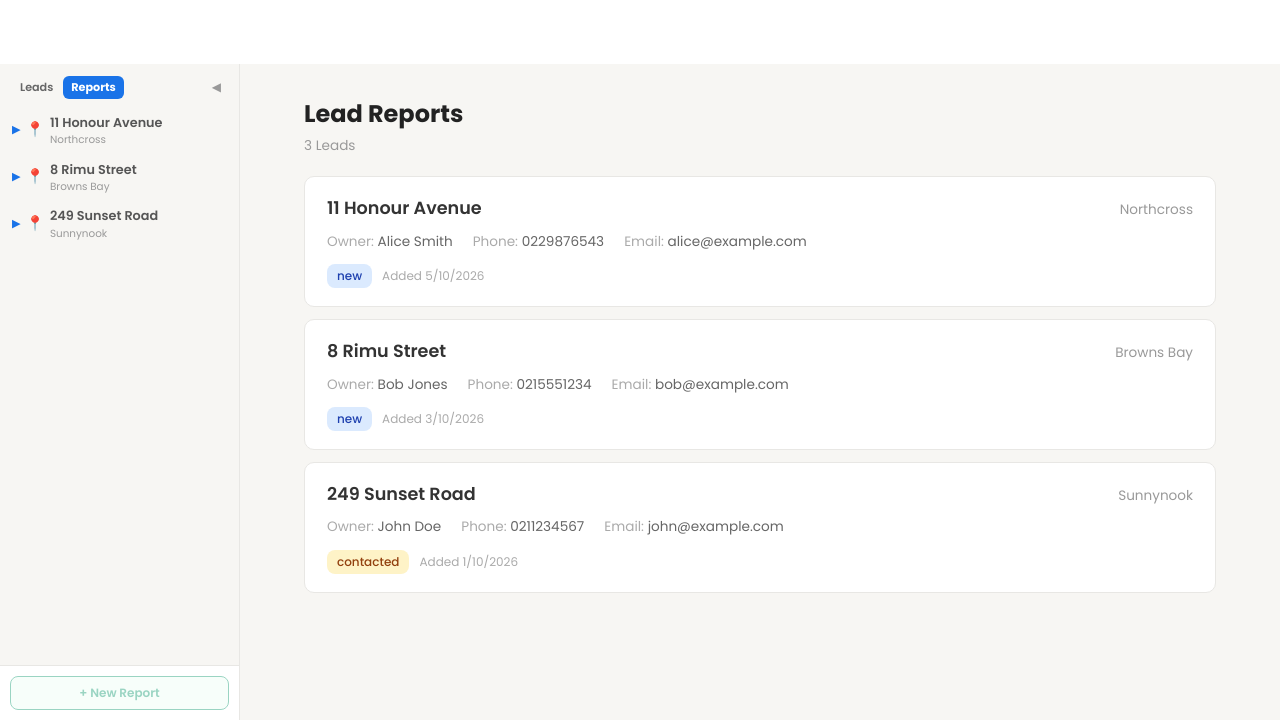
Test case: LeadReportsView › shows the report toolbar after opening a specific report
Click the element with test id "home-lead-item" that starts with "249 Sunset Road" at (760, 527), box [304,462,1216,593]
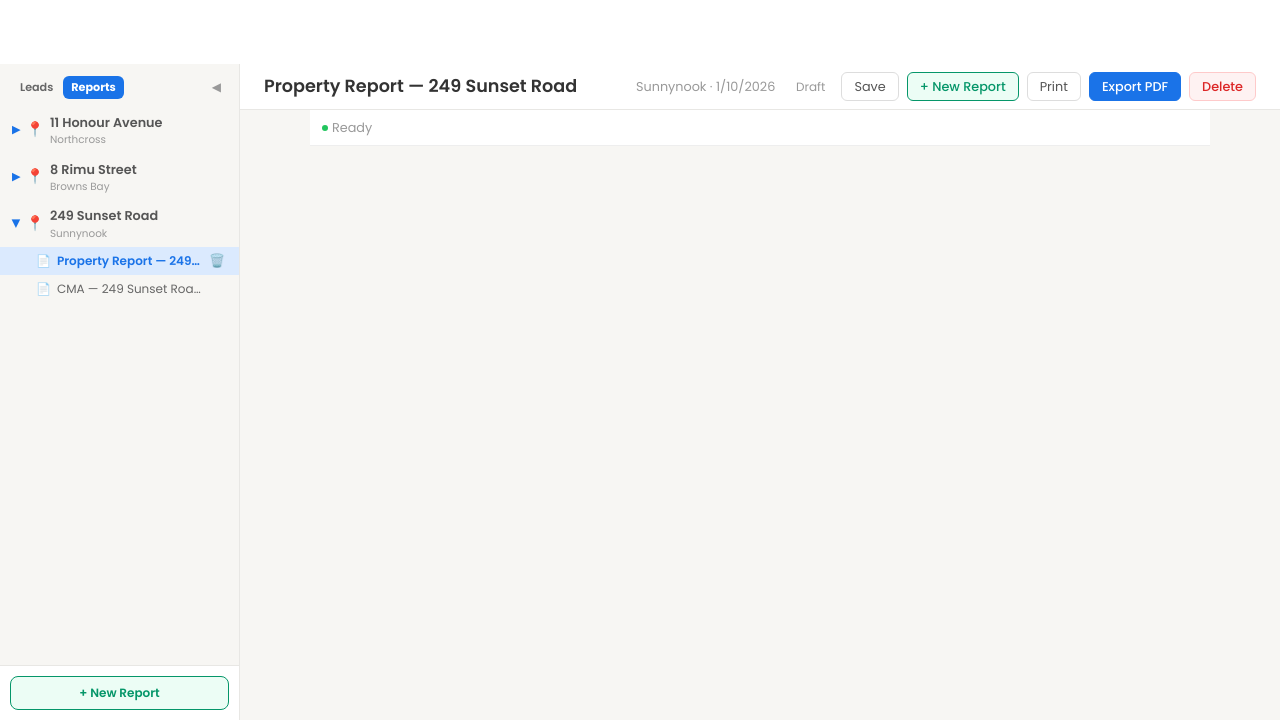
expect the button with test id "save-btn" is shown: met, box [841,72,899,101]
expect the field with test id "report-title-input" is shown: met, box [264,73,624,100]
expect the button with test id "print-btn" is shown: met, box [1027,72,1081,101]
